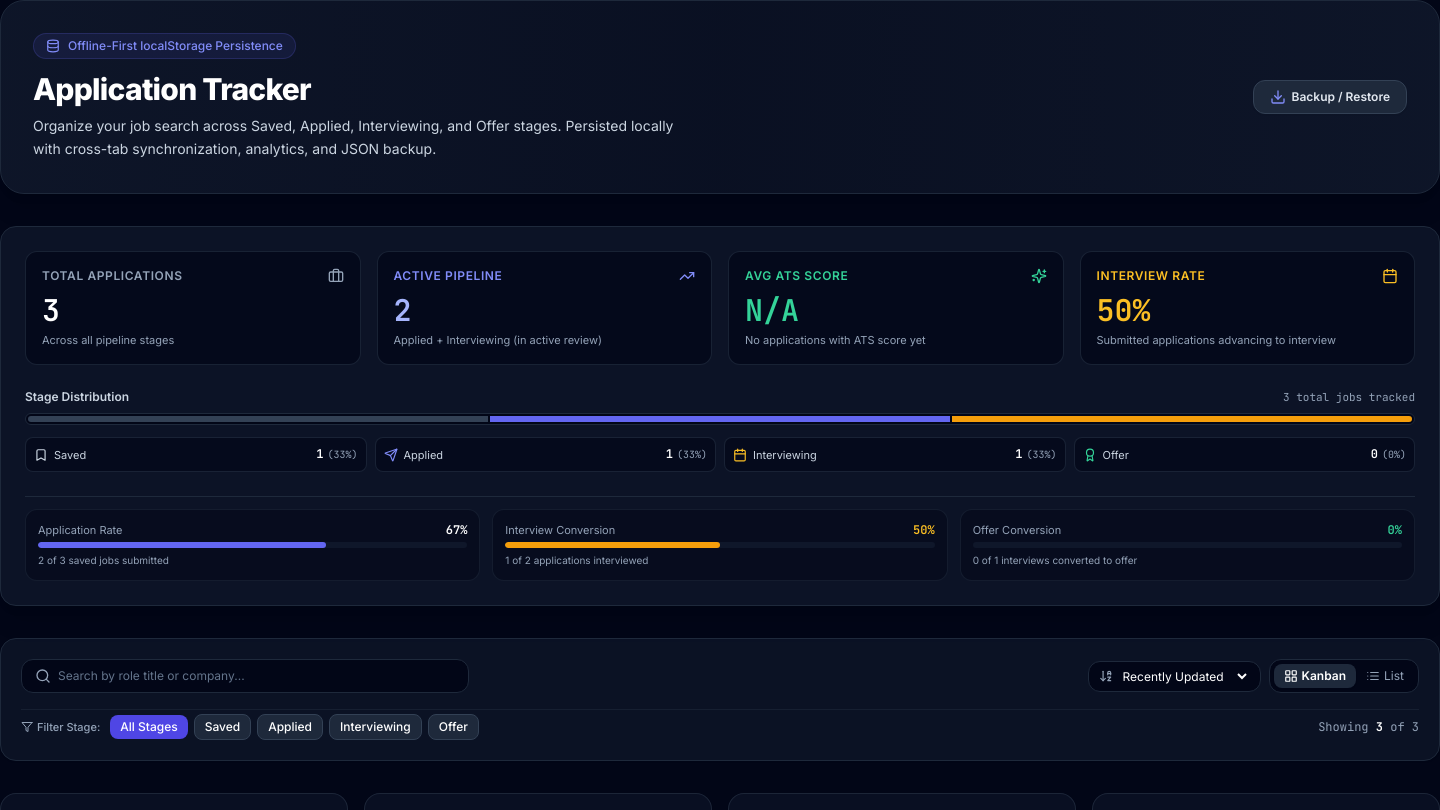
Module 3: Complete Application Tracker Tests › filters applications by stage using multi-select chips and resets filters
// Unselect saved: click "Saved" stage filter button
Click the button "Saved". click: {"x": 222, "y": 727}
box: [194,714,251,740]
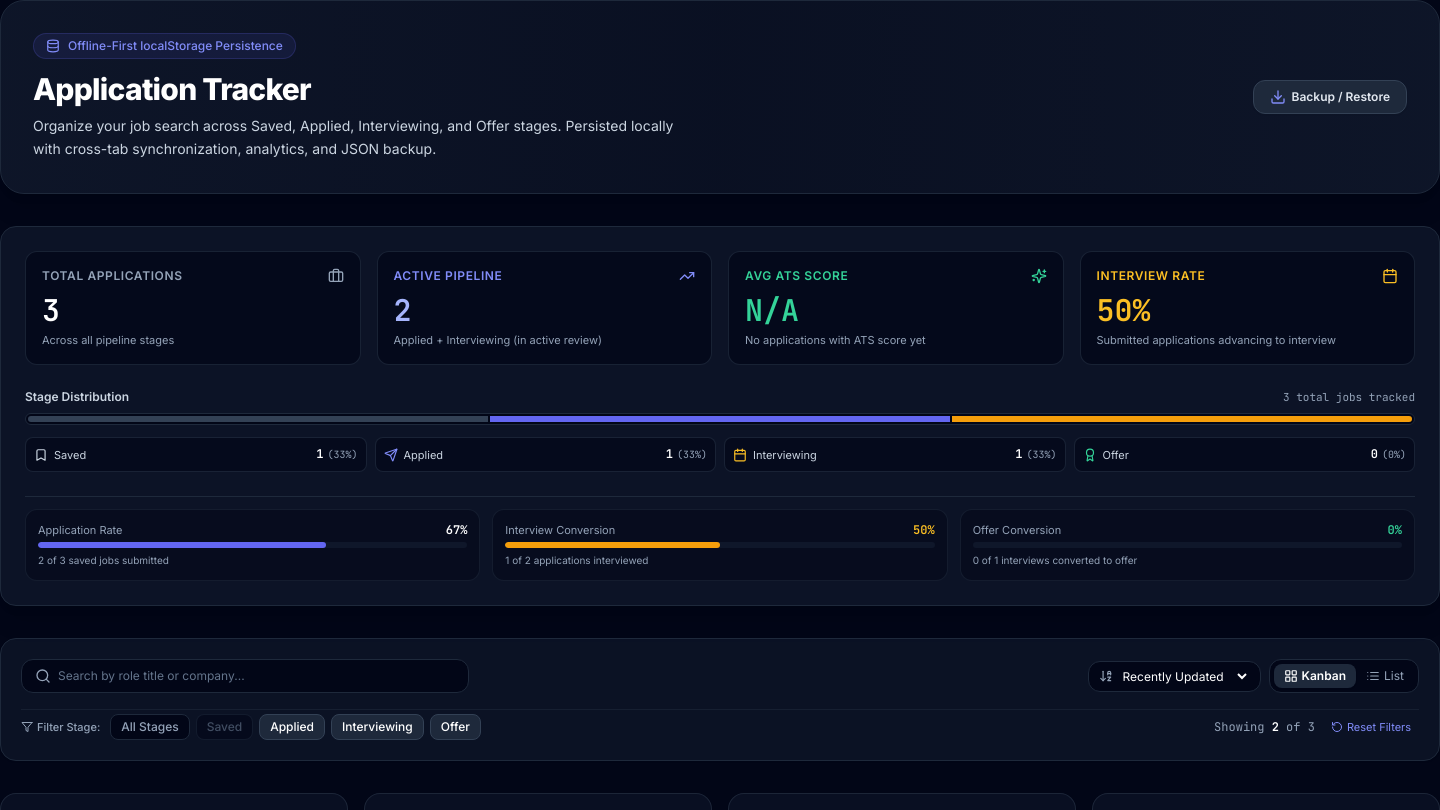
Check: the text "Senior Frontend Engineer - Design Systems" is not shown
// Click Reset Filters
Click the button "Reset Filters". click: {"x": 1371, "y": 727}
box: [1323,717,1419,737]
(page scrolled)
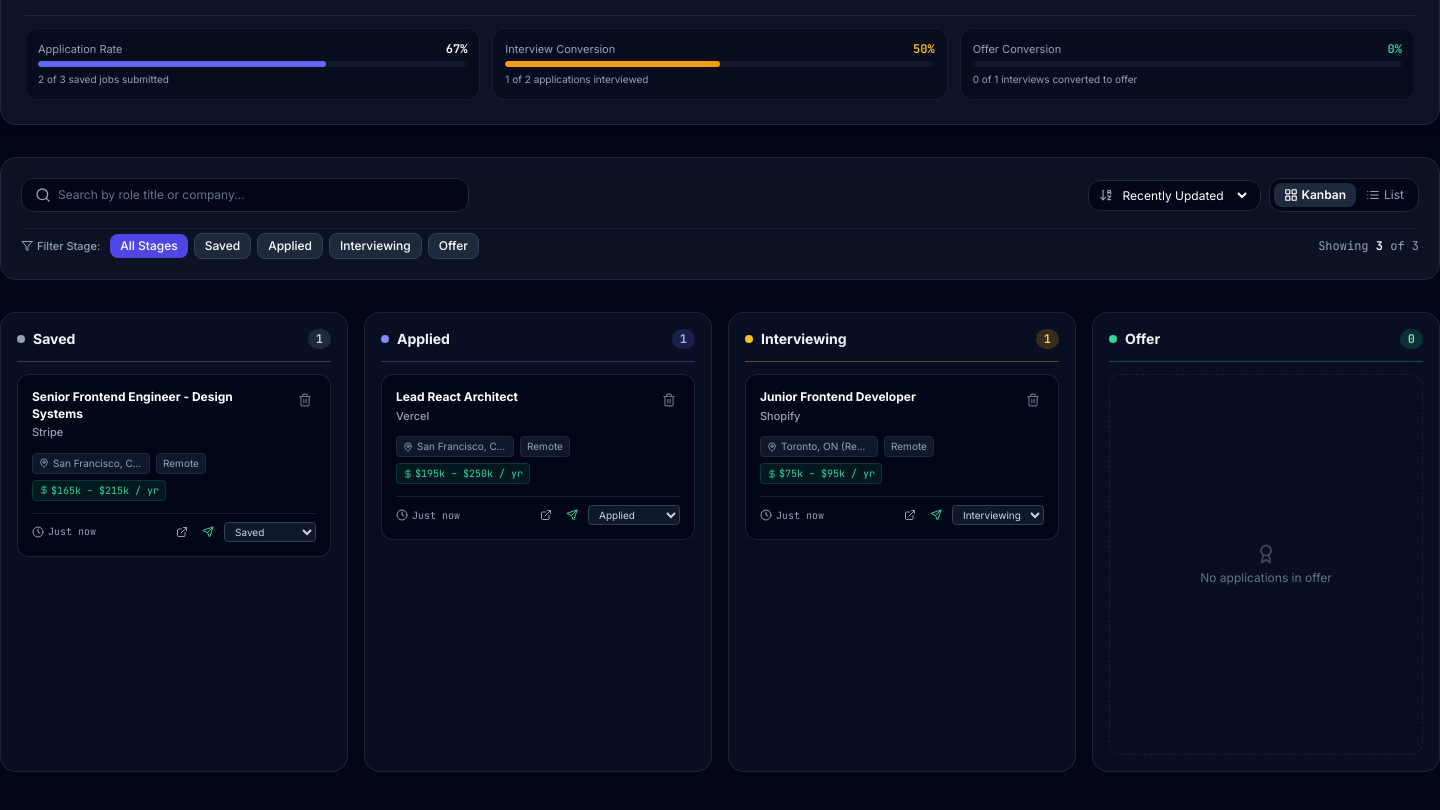
Check: the heading "Senior Frontend Engineer - Design Systems" is shown, box [32,389,233,420]
